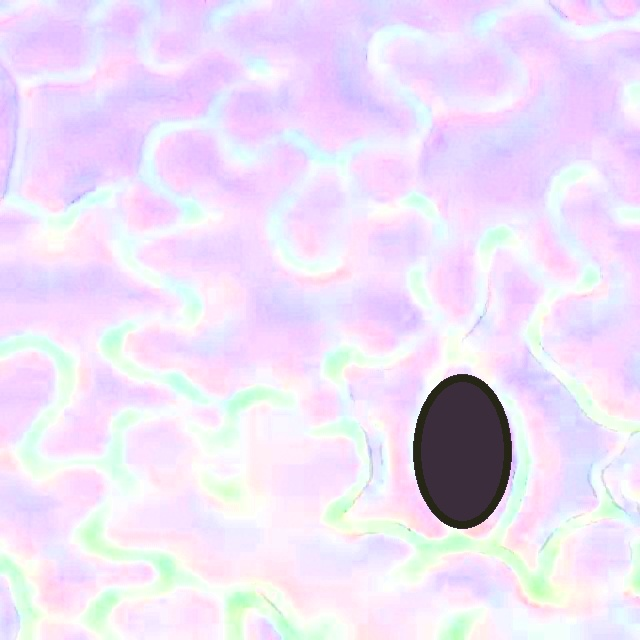open: (413, 374, 510, 528)
